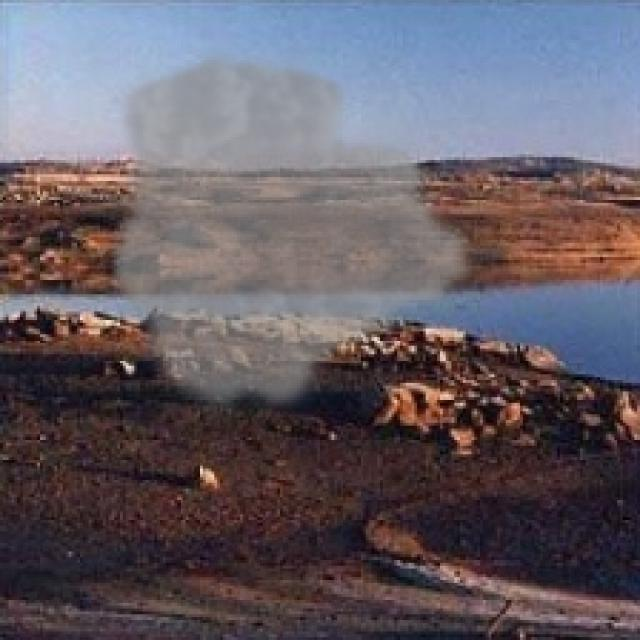smoke: (106, 49, 480, 420)
